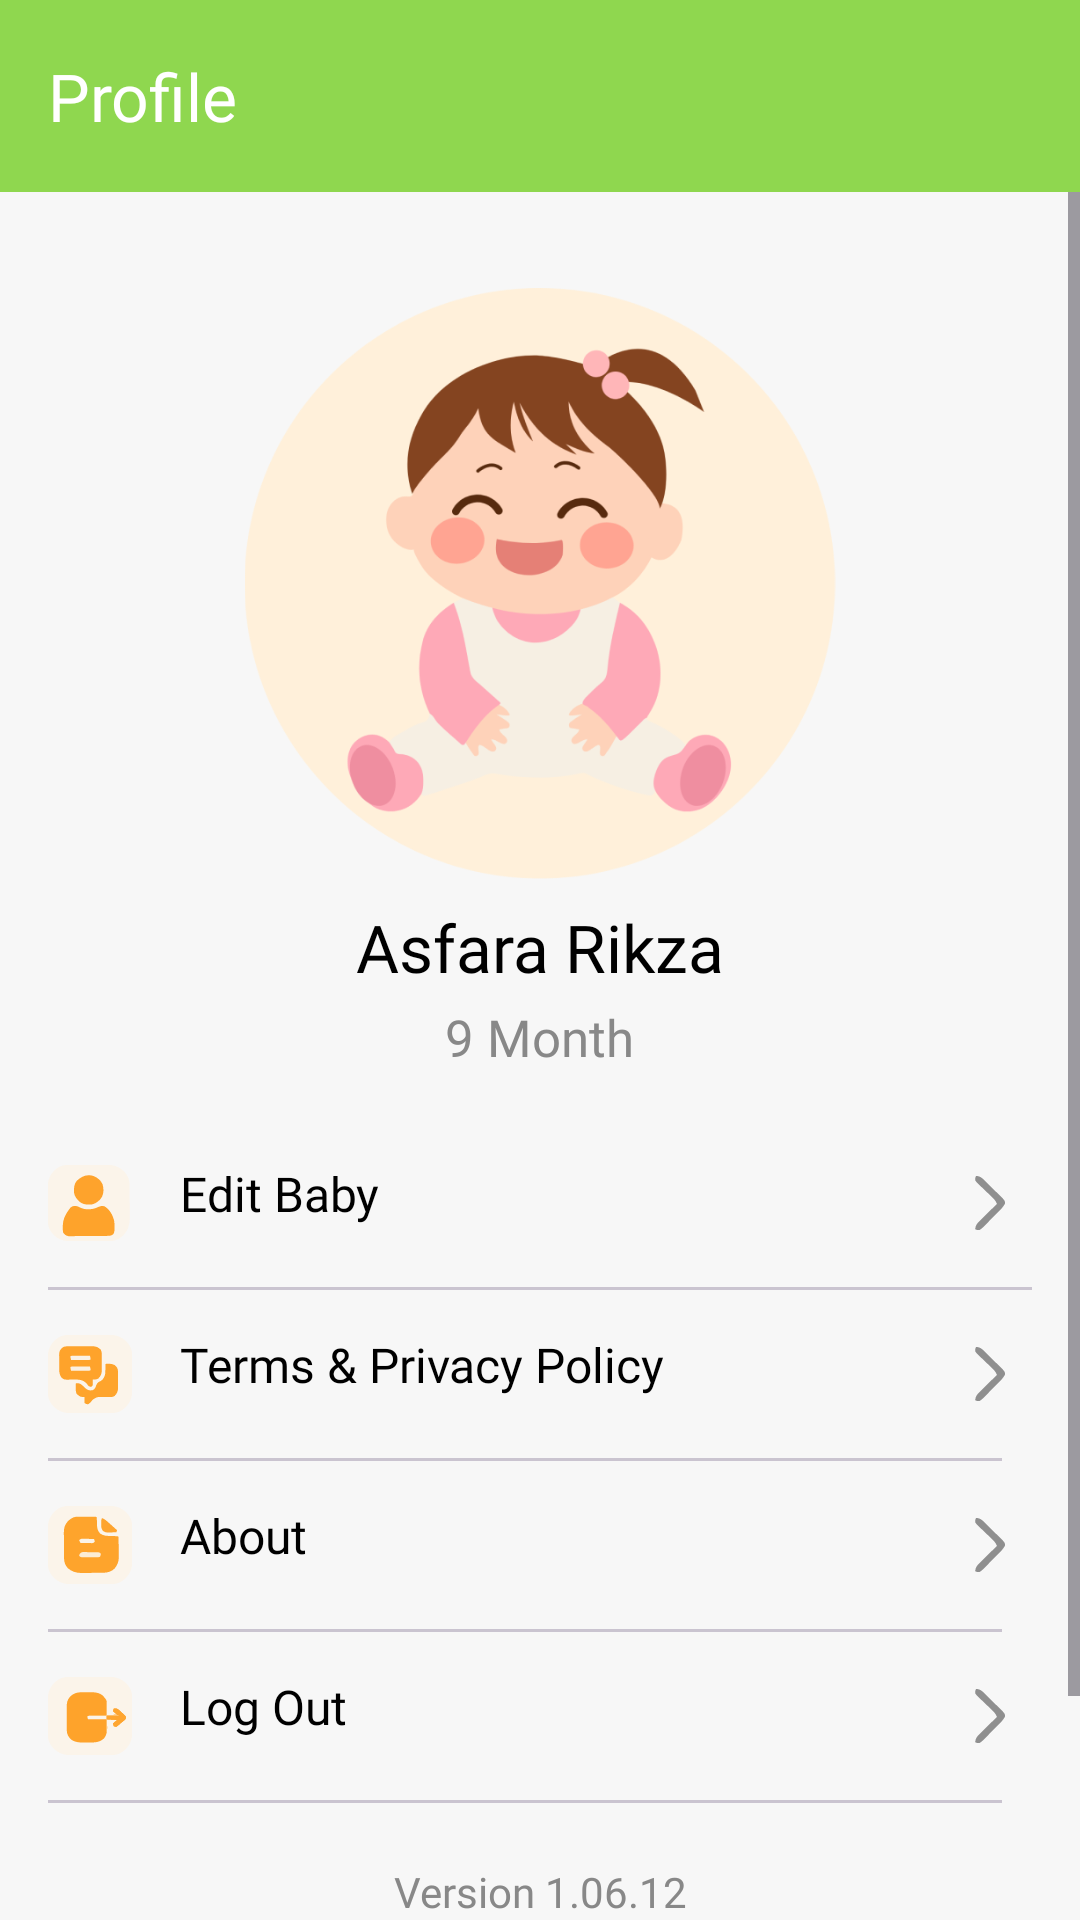

Screen size 1080px x 1920px. Icon name, then its box in pixels as region(x1, y1, x2, y2):
right: region(975, 1176, 1005, 1230), region(975, 1347, 1005, 1401), region(975, 1518, 1005, 1572), region(975, 1689, 1005, 1743)
